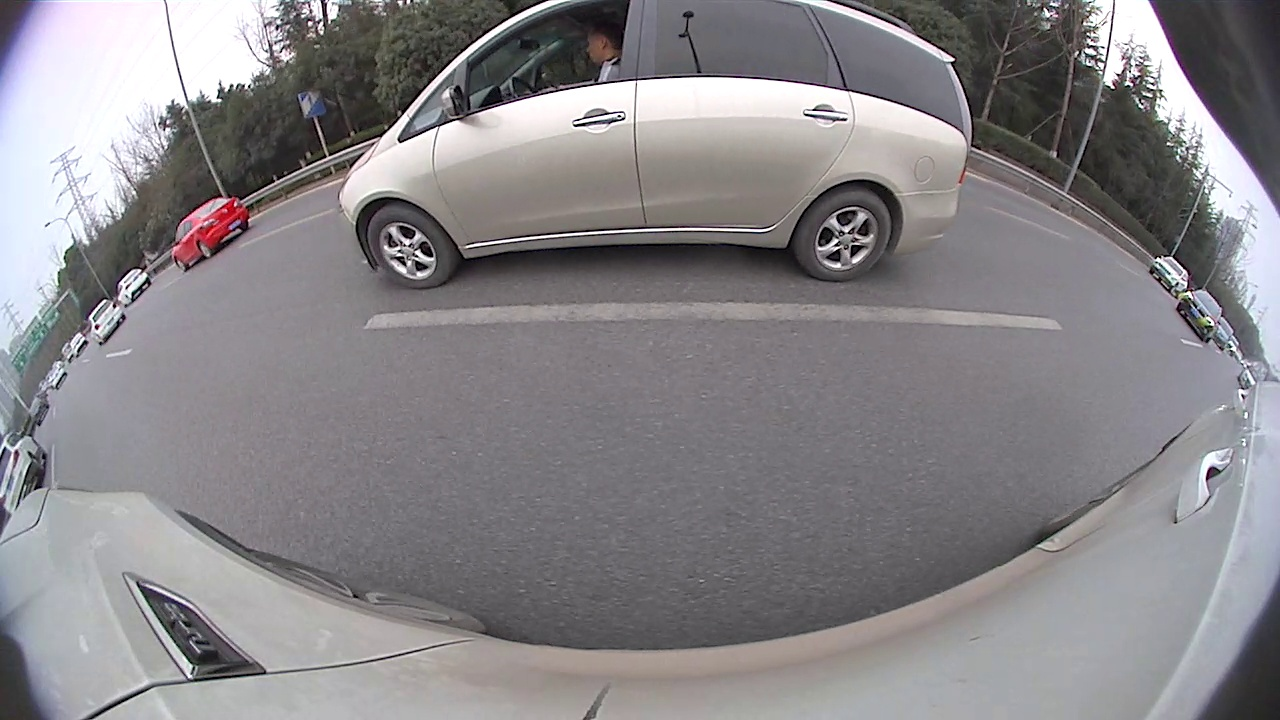car: (336, 1, 975, 291), (170, 194, 252, 273), (0, 429, 50, 519), (1174, 285, 1225, 345), (86, 296, 127, 347), (1149, 253, 1190, 298), (115, 264, 154, 306), (1205, 313, 1237, 353)
front: (368, 208, 450, 289)
rear: (804, 193, 891, 280)
